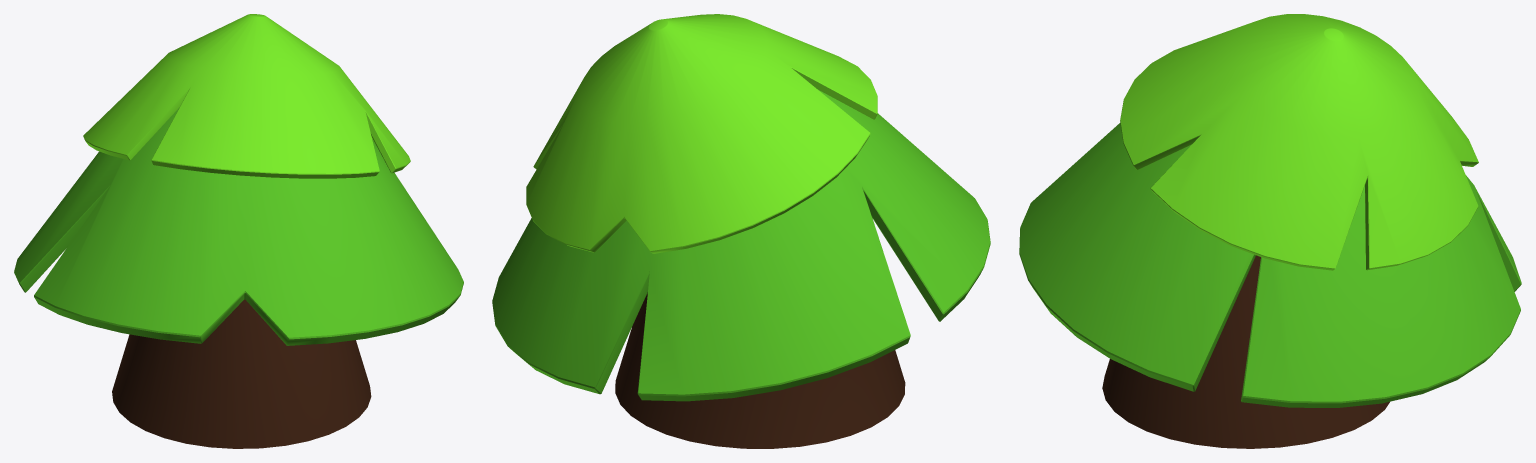
The model's file is tree3.fbx.
3 views of the same model, side by side, from view 1: azimuth 30°, elevation 25°; view 2: azimuth 150°, elevation 25°; view 3: azimuth 270°, elevation 25° (orthographic). The views are drawn at different scales.
Parts seen in each view (by area): view 1: Cylinder.009, Cylinder.008, Cylinder.011; view 2: Cylinder.009, Cylinder.008, Cylinder.011; view 3: Cylinder.009, Cylinder.008, Cylinder.011.
Boxes of the visible parts, box(x1,y1,x2,y2) form: Cylinder.009: box(14, 107, 463, 345); Cylinder.008: box(83, 14, 410, 178); Cylinder.011: box(112, 299, 371, 448); Cylinder.009: box(492, 89, 990, 401); Cylinder.008: box(526, 14, 877, 253); Cylinder.011: box(615, 292, 905, 448); Cylinder.009: box(1019, 123, 1521, 407); Cylinder.008: box(1120, 14, 1478, 270); Cylinder.011: box(1102, 255, 1389, 448).
Bounding box in the file's own units: 661 × 557 × 661.
